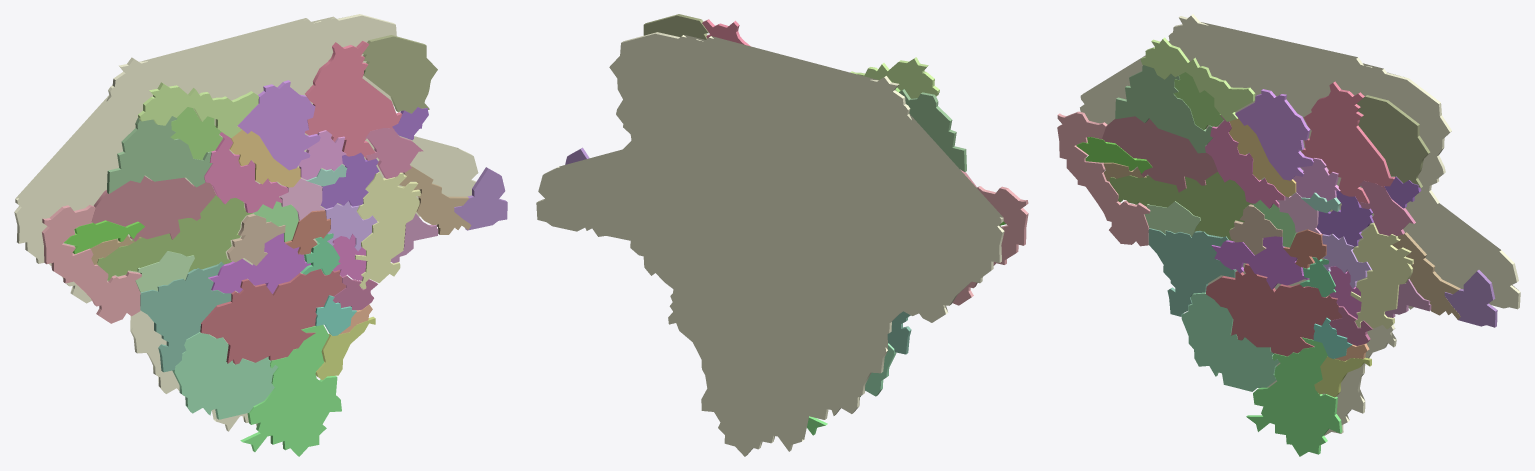
File: DurangoColor.fbx
The picture shows the model from 3 angles, left to right: view 1: azimuth 30°, elevation 25°; view 2: azimuth 150°, elevation 25°; view 3: azimuth 330°, elevation 25°; orthographic projection. The views are drawn at different scales.
Visible parts, largest first — view 1: contorno_del_mapa, durango, mezquital, mapimi, pueblo_nuevo, santiago_papasquiaro, tamazula, tepehuanes, san_dimas, guanacevi, cuencame, hidalgo (+26 smaller); view 2: contorno_del_mapa, tamazula, guanacevi, ocampo, tlahualilo, san_dimas, mapimi, pueblo_nuevo; view 3: contorno_del_mapa, durango, mezquital, mapimi, pueblo_nuevo, santiago_papasquiaro, tamazula, tepehuanes, san_dimas, cuencame, hidalgo, guanacevi (+27 smaller).
Boxes of the visible parts, <box> form: contorno_del_mapa: <box>14,14,478,431</box>; durango: <box>200,269,345,364</box>; mezquital: <box>240,325,341,456</box>; mapimi: <box>305,41,402,158</box>; pueblo_nuevo: <box>172,332,277,419</box>; santiago_papasquiaro: <box>97,195,252,280</box>; tamazula: <box>42,205,141,323</box>; tepehuanes: <box>91,176,215,241</box>; san_dimas: <box>140,261,231,372</box>; guanacevi: <box>107,116,212,193</box>; cuencame: <box>355,172,420,289</box>; hidalgo: <box>237,80,320,170</box>; contorno_del_mapa: <box>536,32,1004,456</box>; tamazula: <box>952,186,1028,305</box>; guanacevi: <box>899,89,966,171</box>; ocampo: <box>850,57,939,98</box>; tlahualilo: <box>643,14,708,39</box>; san_dimas: <box>887,311,911,354</box>; mapimi: <box>702,19,750,46</box>; pueblo_nuevo: <box>860,343,896,396</box>; contorno_del_mapa: <box>1080,14,1520,435</box>; durango: <box>1206,263,1342,356</box>; mezquital: <box>1246,337,1342,456</box>; mapimi: <box>1301,81,1395,204</box>; pueblo_nuevo: <box>1181,292,1279,391</box>; santiago_papasquiaro: <box>1109,172,1252,241</box>; tamazula: <box>1057,111,1150,246</box>; tepehuanes: <box>1102,116,1217,192</box>; san_dimas: <box>1148,228,1236,316</box>; cuencame: <box>1350,222,1413,329</box>; hidalgo: <box>1235,89,1313,180</box>; guanacevi: <box>1115,65,1212,153</box>.
Size of the model in its own units: 958 by 815 by 114.
